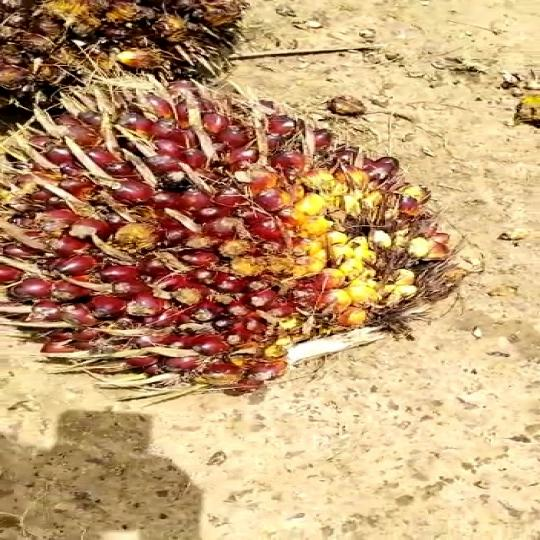kurang masak: (0, 76, 505, 420)
